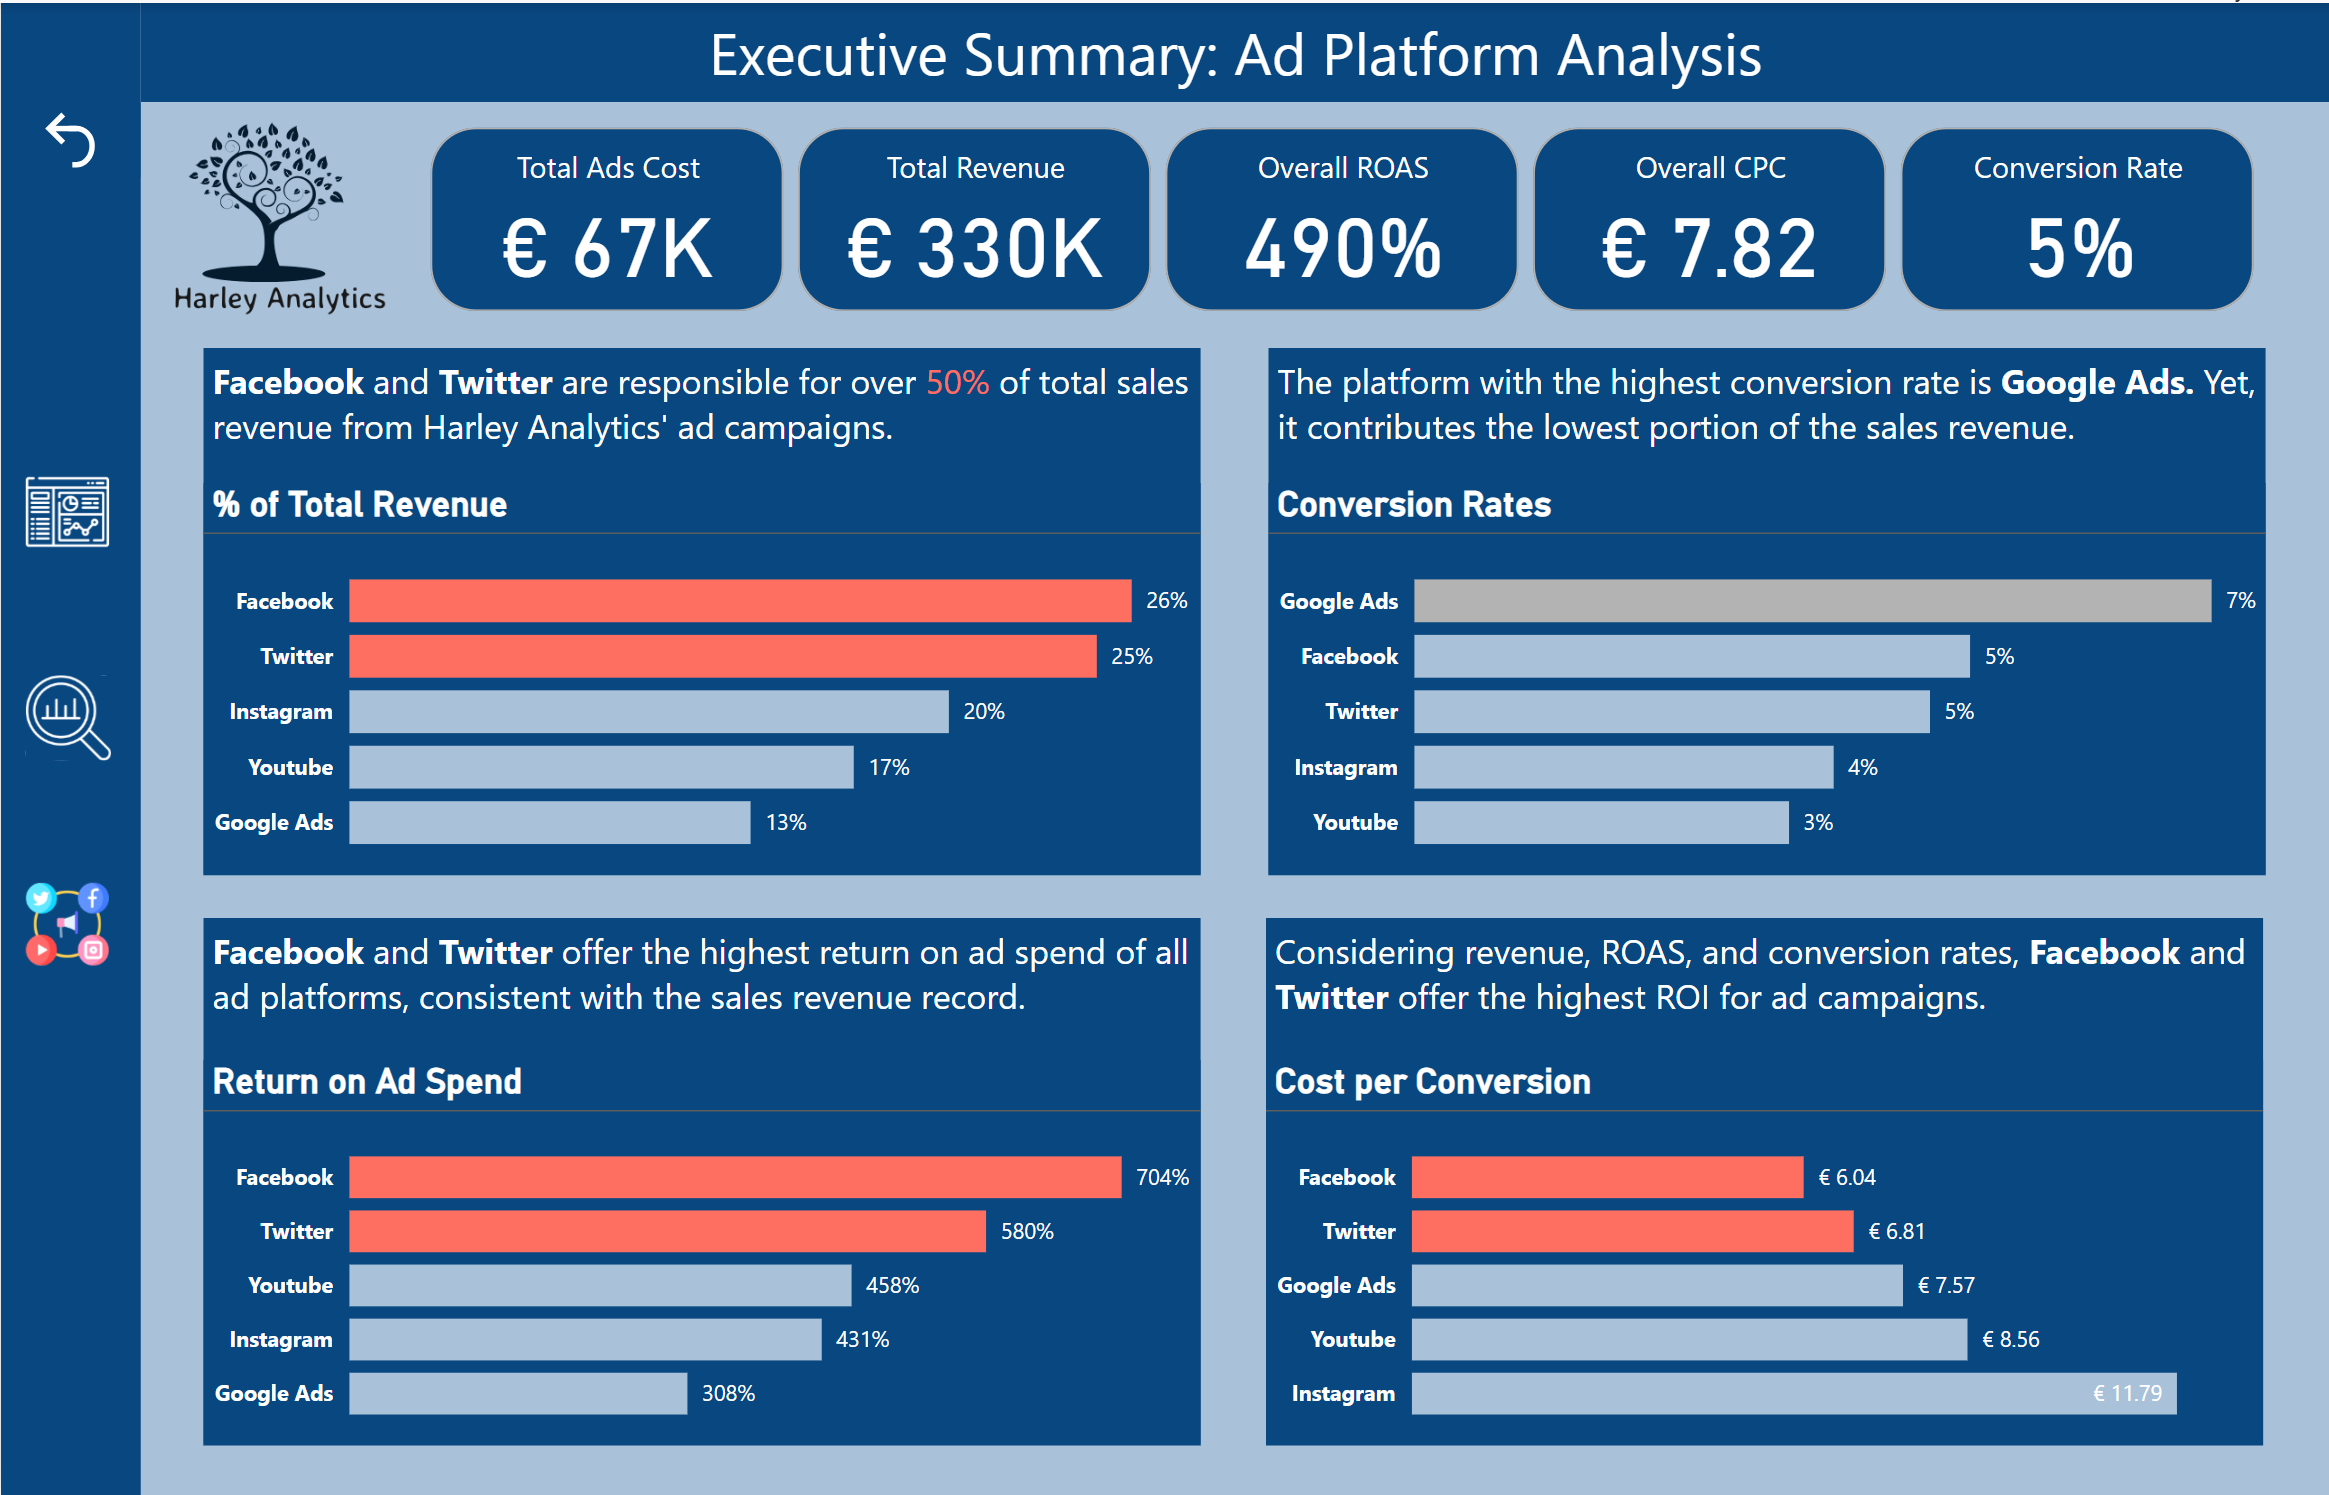

What the dashboard file says about the page in this screenshot:
{"tool":"powerbi","page":{"name":"Ad Platform","canvas":[1280,820],"ordinal":0},"visuals":[{"type":"cardVisual","title":"KPIs","fields":{"Data":["DAX Measures.Total Cost","DAX Measures.Total Revenue","DAX Measures.ROAS","DAX Measures.Cost per conversion","DAX Measures.Conversion Rate"]},"box":[231,62.6,1012.9,111.3],"z":0},{"type":"textbox","title":"Revenue insights","box":[111.3,189.2,548.2,289.4],"z":0,"group":"g2"},{"type":"textbox","title":"Conversion rate insight","box":[696,189.6,548.2,289.4],"z":0,"group":"g1"},{"type":"textbox","title":"Conversion rate group","box":[111.3,502.3,548.2,289.4],"z":0,"group":"g3"},{"type":"textbox","title":"Revenue insights","box":[695.7,502.3,548.2,289.4],"z":0,"group":"g4"},{"type":"shape","title":"Page Margin","box":[0,0,76.9,820.3],"z":1000},{"type":"barChart","title":"% of Total Revenue","fields":{"Y":["DAX Measures.Total Revenue"],"Category":["Marketing_data.Platform"]},"box":[111.3,262.9,548.2,215.7],"z":1000,"group":"g2"},{"type":"barChart","title":"Conversion Rates","fields":{"Y":["DAX Measures.Conversion Rate"],"Category":["Marketing_data.Platform"]},"box":[696,263.3,548.2,215.7],"z":1000,"group":"g1"},{"type":"barChart","title":"Return on Ad Spend","fields":{"Category":["Marketing_data.Platform"],"Y":["DAX Measures.ROAS"]},"box":[111.3,580.2,548.2,211.5],"z":1000,"group":"g3"},{"type":"actionButton","title":"Campaigns Button","box":[10.1,479.5,64.6,53.6],"z":2000},{"type":"barChart","title":"Cost per Conversion","fields":{"Category":["Marketing_data.Platform"],"Y":["DAX Measures.Cost per conversion"]},"box":[695.7,580.2,548.2,211.5],"z":2000,"group":"g4"},{"type":"actionButton","title":"Insights button","box":[10.1,365.8,64.6,55],"z":3000},{"type":"actionButton","title":"Platform Button","box":[10,253.2,64.8,53.8],"z":4000},{"type":"image","title":"Company Logo","box":[76.8,56.4,153.5,123.7],"z":5000},{"type":"textbox","title":"Page Title","box":[76.5,0,1203.5,54.3],"z":6000},{"type":"group","id":"g1","title":"Conversion rate grouping","box":[696,189.6,548.2,289.4],"z":7000},{"type":"group","id":"g2","title":"Revenue Group","box":[111.3,189.2,548.2,289.4],"z":8000},{"type":"group","id":"g3","title":"ROAS Group","box":[111.3,502.3,548.2,289.4],"z":9000},{"type":"group","id":"g4","title":"Group 1","box":[695.7,502.3,548.2,289.4],"z":10000},{"type":"actionButton","box":[0,54.9,76.6,40.5],"z":11000}]}

Visuals, with their boxes in screenshot pixels (x1, y1, x2, y2), scaled from the page's 1280x820 canvas onto the 2329x1495 screenshot:
"KPIs" cardVisual: locate(420, 114, 2263, 317)
"Revenue insights" textbox: locate(203, 345, 1200, 873)
"Conversion rate insight" textbox: locate(1266, 346, 2264, 873)
"Conversion rate group" textbox: locate(203, 916, 1200, 1443)
"Revenue insights" textbox: locate(1266, 916, 2263, 1443)
"Page Margin" shape: locate(0, 0, 140, 1494)
"% of Total Revenue" barChart: locate(203, 479, 1200, 873)
"Conversion Rates" barChart: locate(1266, 480, 2264, 873)
"Return on Ad Spend" barChart: locate(203, 1058, 1200, 1443)
"Campaigns Button" actionButton: locate(18, 874, 136, 972)
"Cost per Conversion" barChart: locate(1266, 1058, 2263, 1443)
"Insights button" actionButton: locate(18, 667, 136, 767)
"Platform Button" actionButton: locate(18, 462, 136, 560)
"Company Logo" image: locate(140, 103, 419, 328)
"Page Title" textbox: locate(139, 0, 2328, 99)
"Conversion rate grouping" group: locate(1266, 346, 2264, 873)
"Revenue Group" group: locate(203, 345, 1200, 873)
"ROAS Group" group: locate(203, 916, 1200, 1443)
"Group 1" group: locate(1266, 916, 2263, 1443)
actionButton: locate(0, 100, 139, 174)
